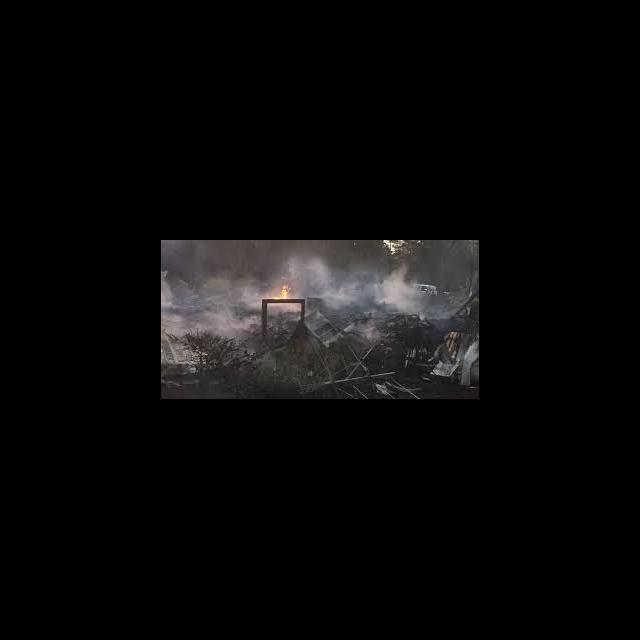Fire: (277, 282, 293, 299)
Smoke: (306, 260, 418, 314), (163, 274, 259, 332)
